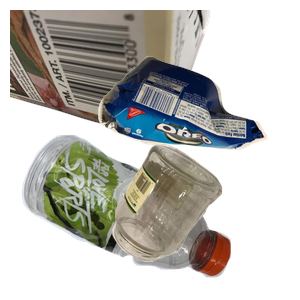cardboard: (10, 10, 213, 146)
glass: (110, 141, 300, 300)
plastic: (19, 132, 242, 300)
trash: (95, 53, 300, 195)
